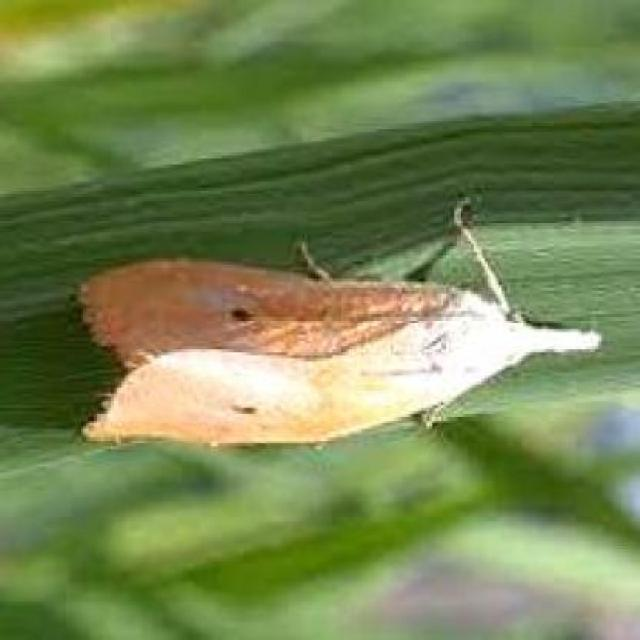stem-borer: (78, 195, 604, 448)
